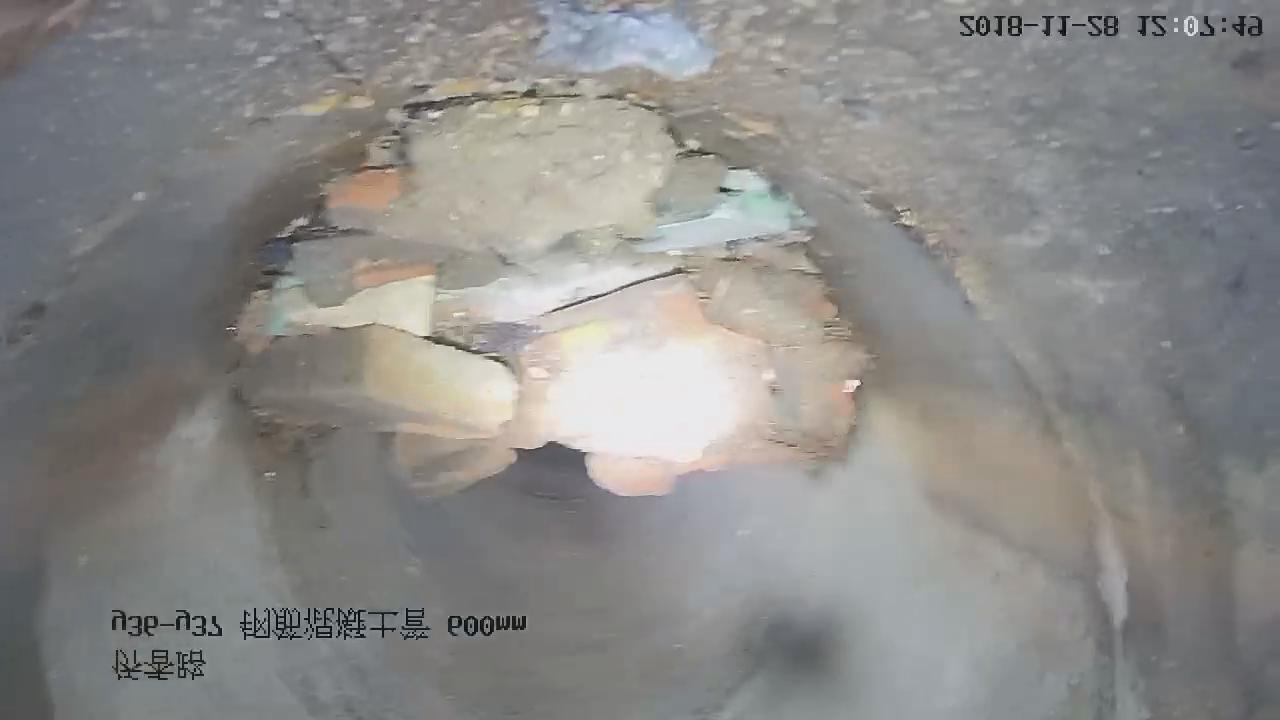ZAW: (237, 99, 866, 496)
